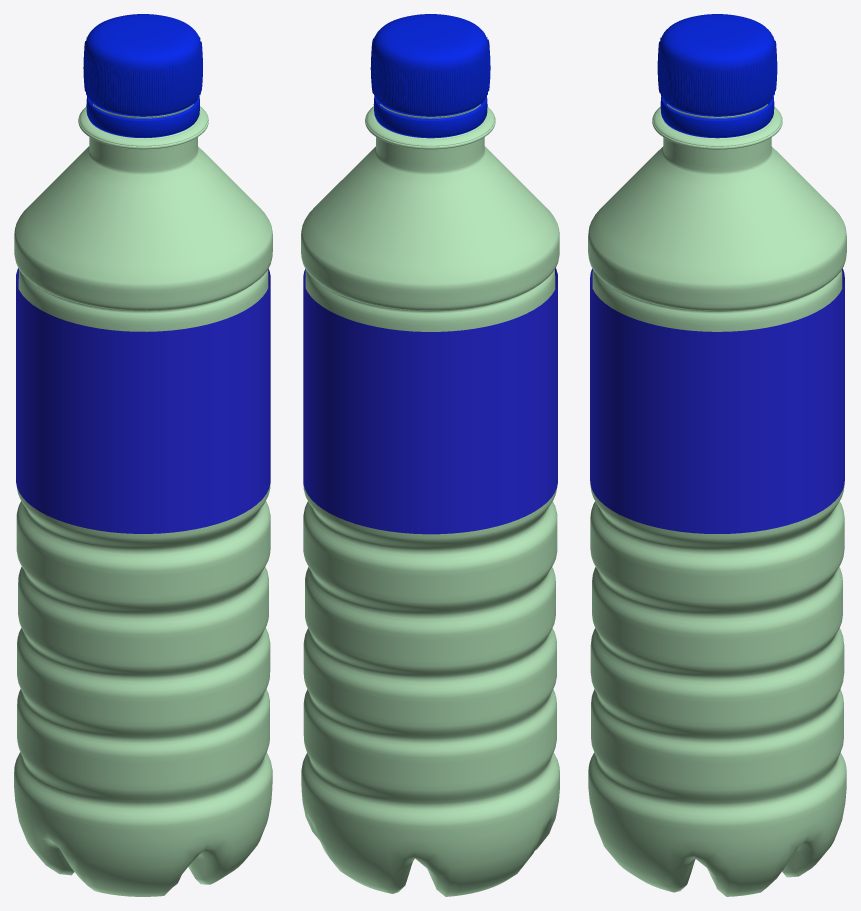
The model's file is Botella_Agua.glb.
3 views of the same model, side by side, from view 1: azimuth 30°, elevation 25°; view 2: azimuth 150°, elevation 25°; view 3: azimuth 270°, elevation 25° (orthographic).
Visible parts, largest first — view 1: Bottle, BottleCap; view 2: Bottle, BottleCap; view 3: Bottle, BottleCap.
Part boxes in pixels (<box>): Bottle: <box>14,96,272,896</box>; BottleCap: <box>83,14,202,116</box>; Bottle: <box>301,96,559,896</box>; BottleCap: <box>370,14,490,116</box>; Bottle: <box>588,96,846,896</box>; BottleCap: <box>657,14,777,116</box>.
Size of the model in its own units: 0.386 by 1.36 by 0.3856.
